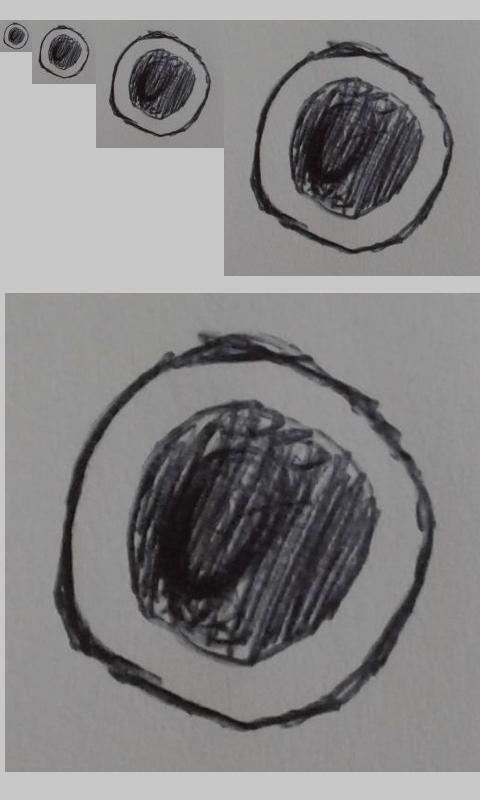radio_button: (51, 333, 436, 734), (248, 40, 453, 258), (109, 30, 211, 137), (38, 25, 91, 79), (2, 22, 29, 50)
